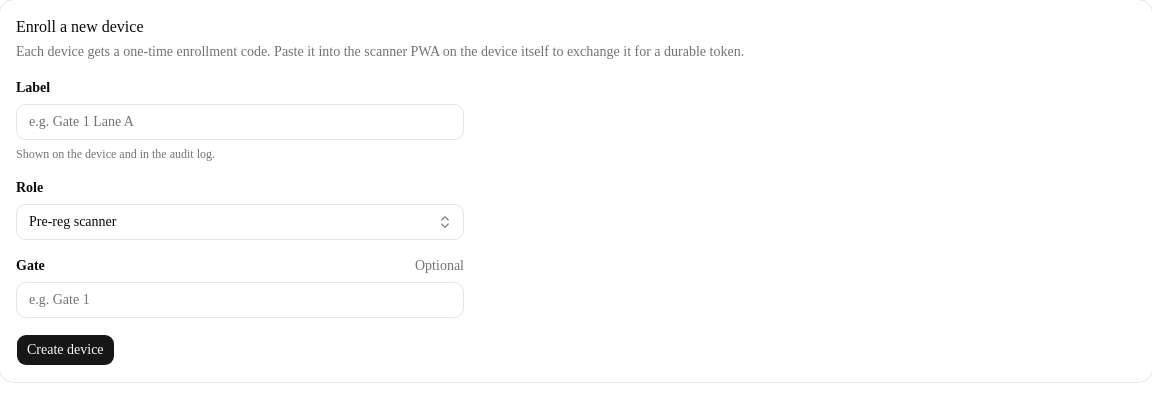
Test case: DeviceCreateForm error handling › shows the extracted field message, not the raw 400 body
Type "Gate A" into the field with placeholder "e.g. Gate 1 Lane A". click: [240, 122]
box: x1=16 y1=104 x2=464 y2=140
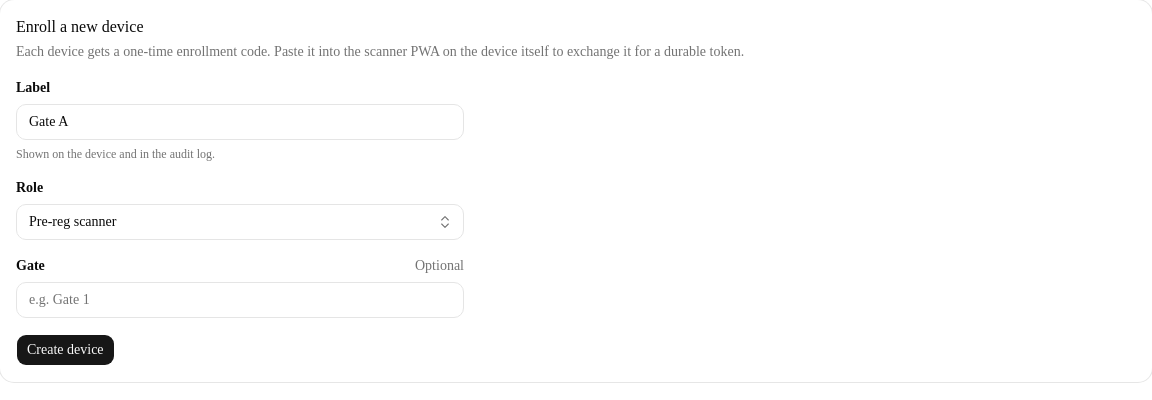
Click the button "Create device". click: [65, 350]
box: x1=16 y1=334 x2=115 y2=366
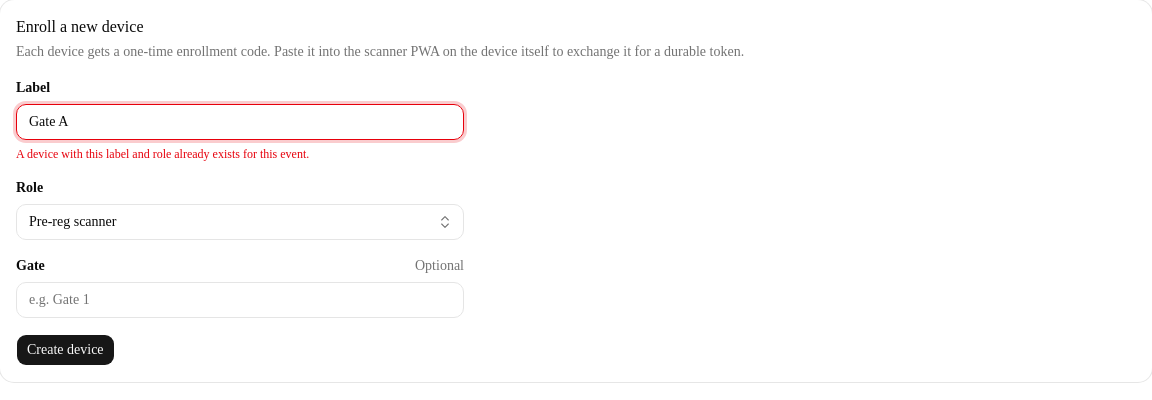
Expected: the text "A device with this label and role already exists for this event." is shown, x1=16 y1=147 x2=309 y2=161
